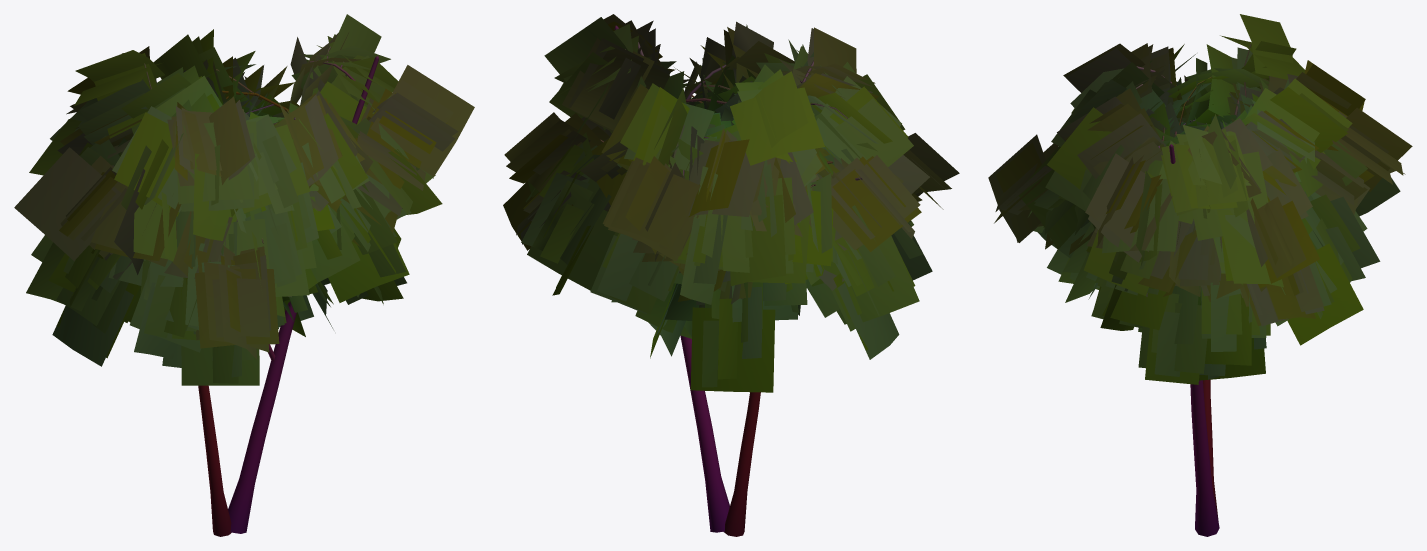
The model's file is veg_birch_c.glb.
3 renders of one model, left to right at view 1: azimuth 30°, elevation 25°; view 2: azimuth 150°, elevation 25°; view 3: azimuth 270°, elevation 25°, orthographic. The views are drawn at different scales.
Visible parts, largest first — view 1: veg_birch_c_LOD0; view 2: veg_birch_c_LOD0; view 3: veg_birch_c_LOD0.
Part boxes in pixels (box(x1,y1,x2,y2)): veg_birch_c_LOD0: box(14, 14, 474, 536); veg_birch_c_LOD0: box(503, 14, 959, 536); veg_birch_c_LOD0: box(988, 14, 1412, 536).
Size of what is drawn, in the model's own units: 2.49 by 2.97 by 2.39.
